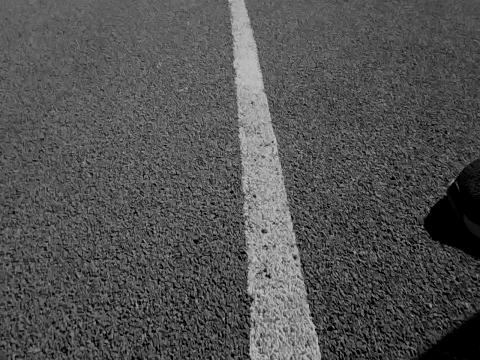Lines: (226, 0, 324, 360)
